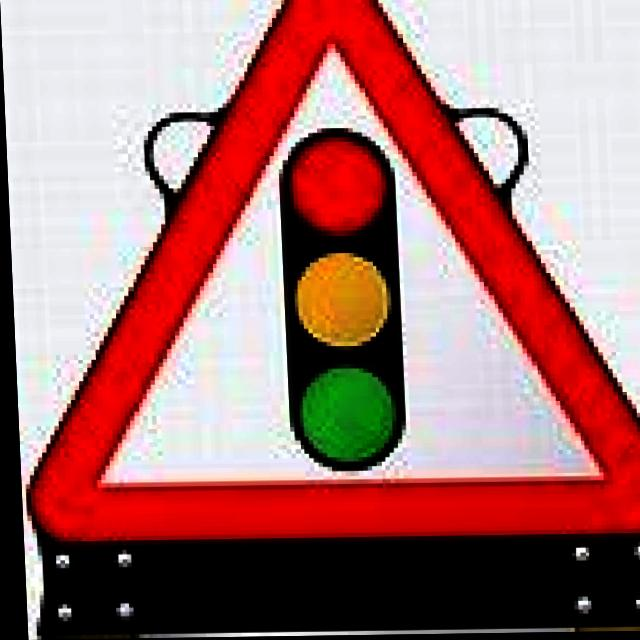TRAFFIC_SIGNAL: (0, 0, 640, 556)
